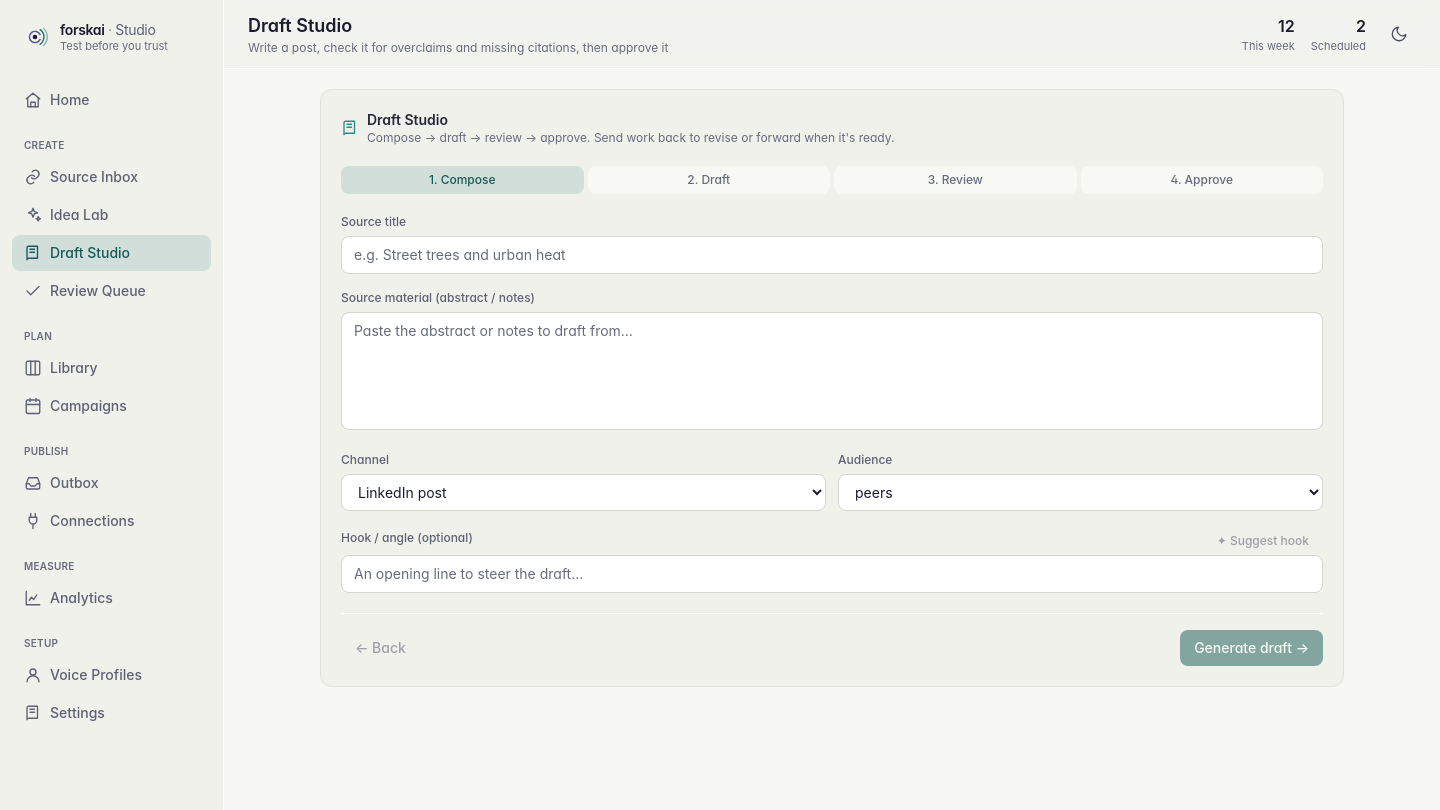
Test: Draft Studio › sends the reviewed draft to the Outbox as approved content
Type "Street trees" into the field labelled "Source title".
click(832, 255); type("Street trees")  # box [341,236,1323,274]
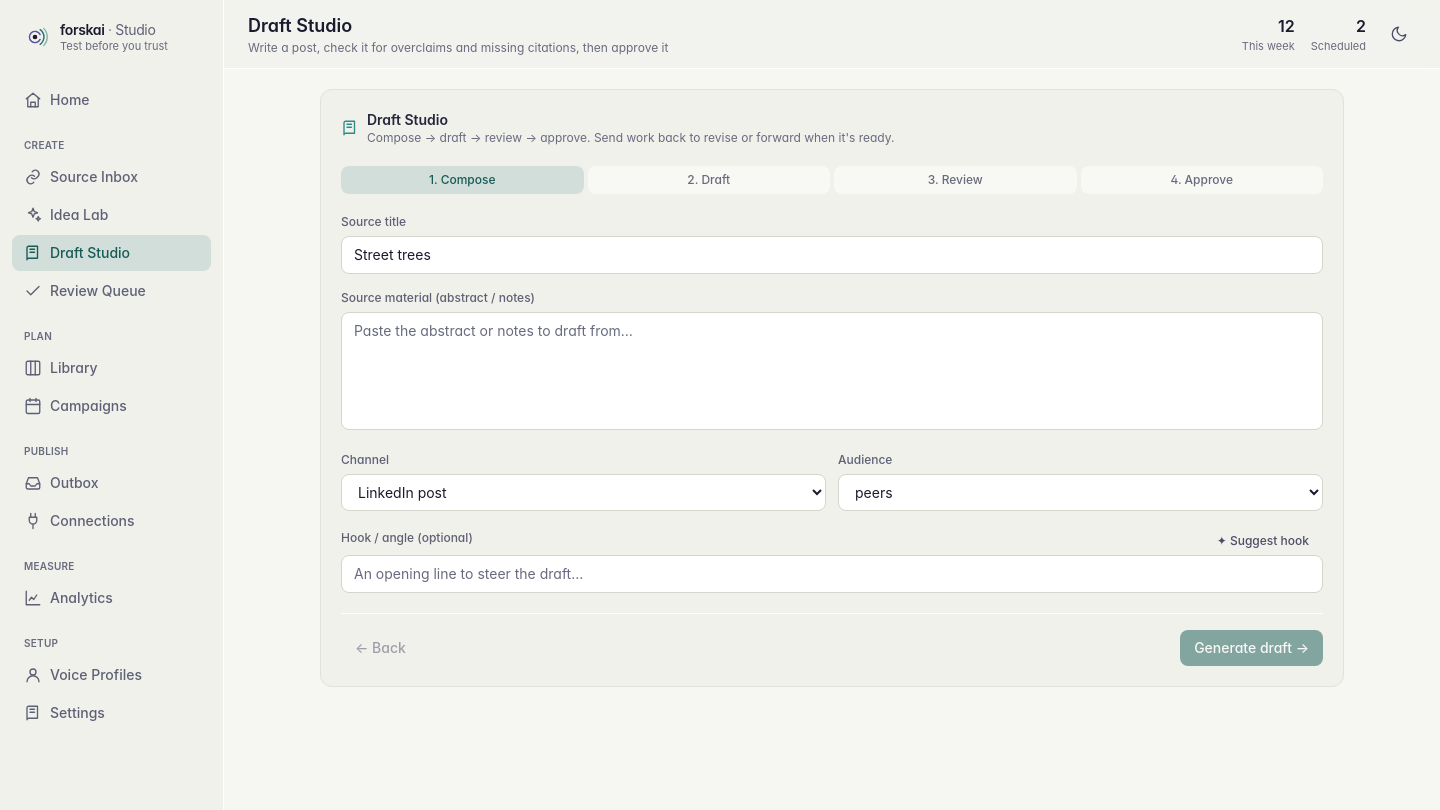
Type "Tree cover was associated with cooler streets." into the text box labelled "Source material (abstract / notes)".
click(832, 371); type("Tree cover was associated with cooler streets.")  # box [341,312,1323,430]
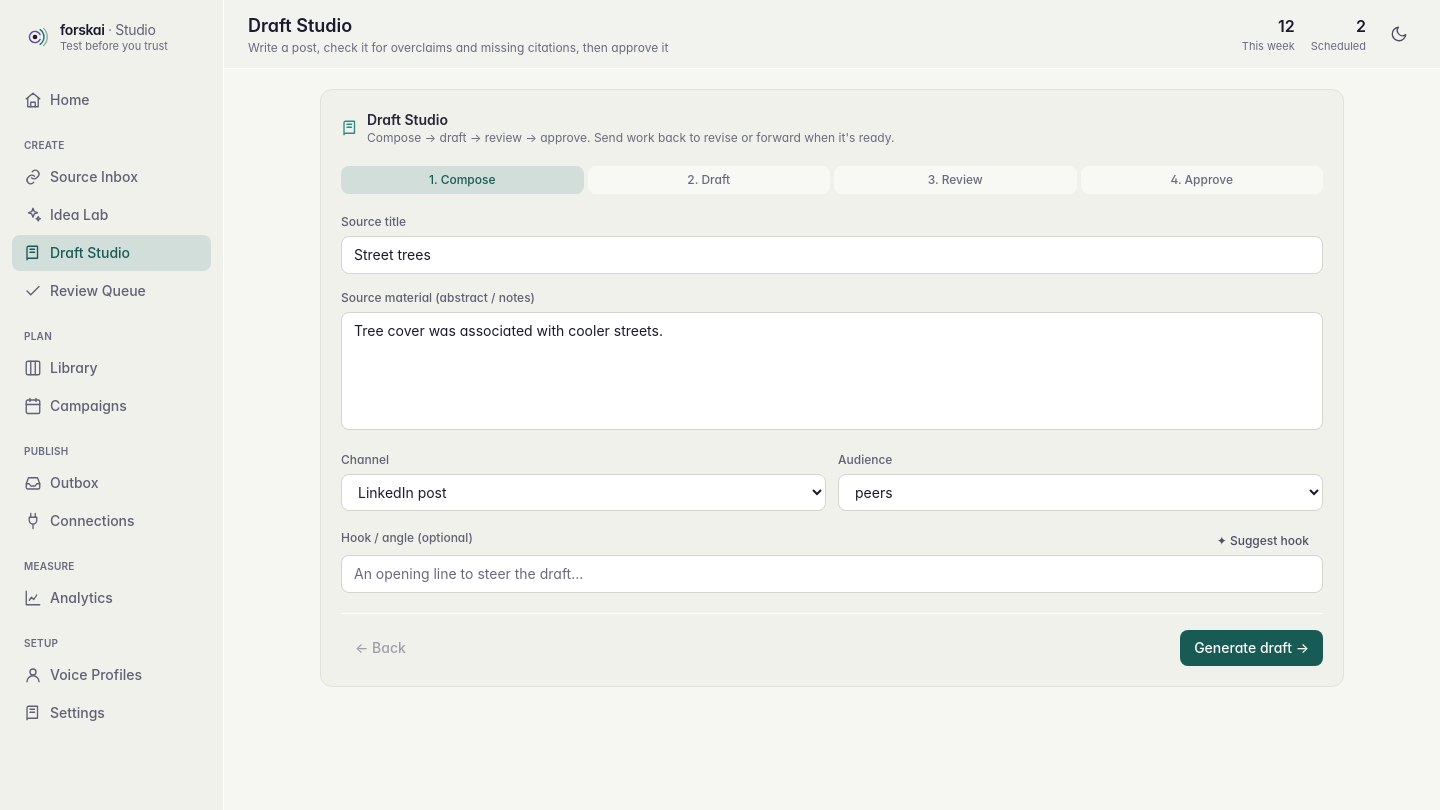
Click the button "Generate draft →".
click(1252, 648)  # box [1180,630,1323,666]
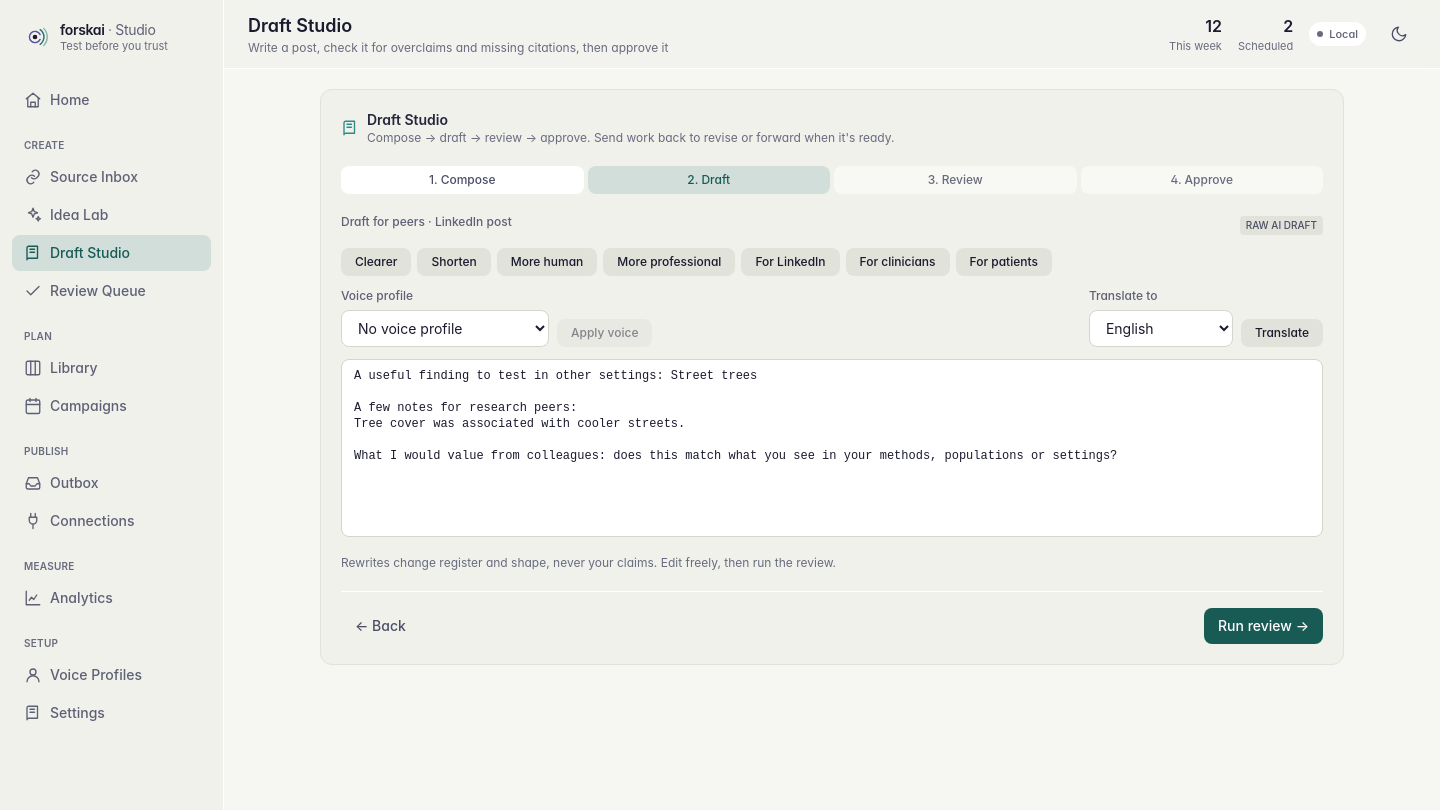
expect the text box with test id "studio-draft" is shown: met, box [341,359,1323,537]
Click the button "Run review →".
click(1264, 626)  # box [1204,608,1323,644]
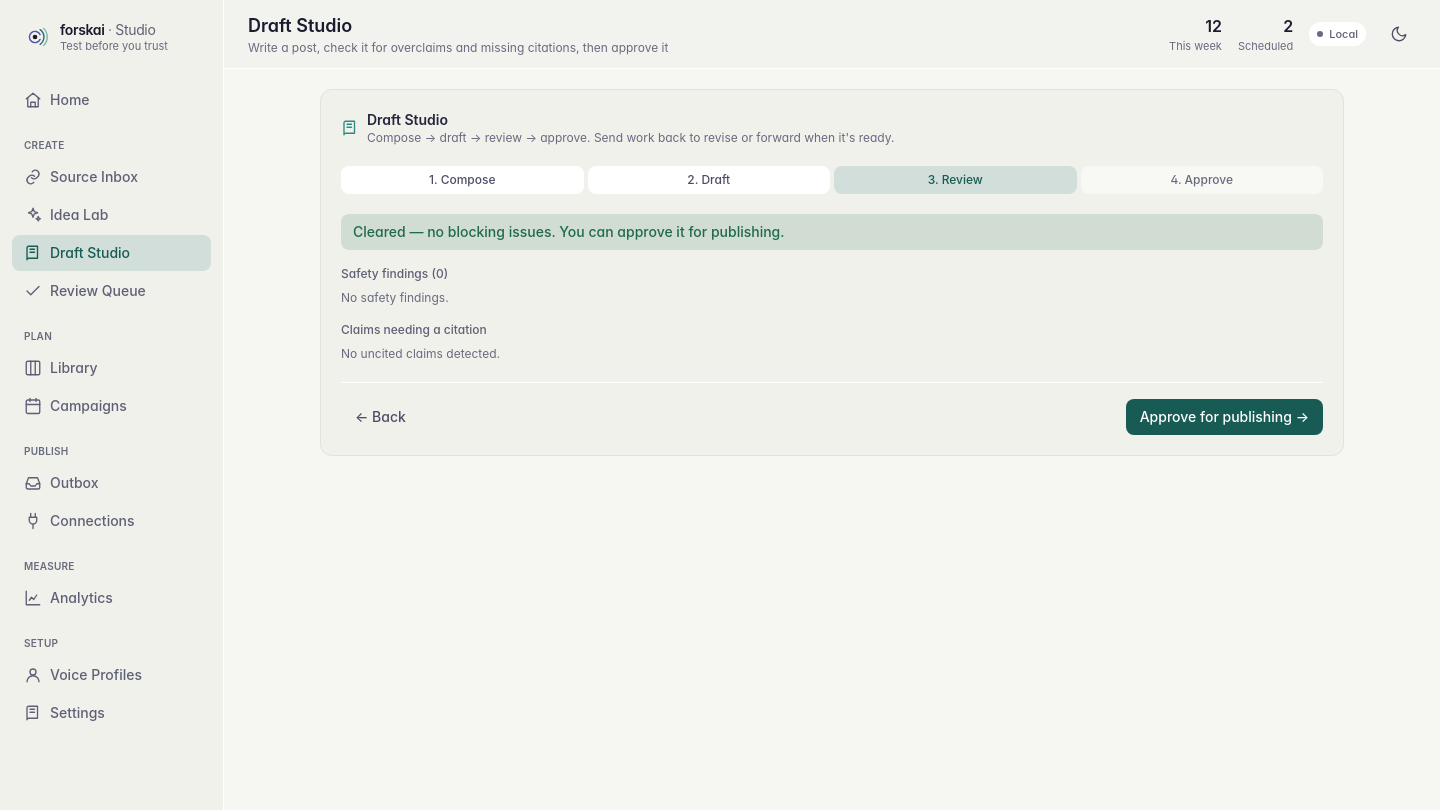
expect the text with test id "review-status" is shown: met, box [341,214,1323,250]
Click the button "Approve for publishing →".
click(1224, 417)  # box [1126,399,1323,435]
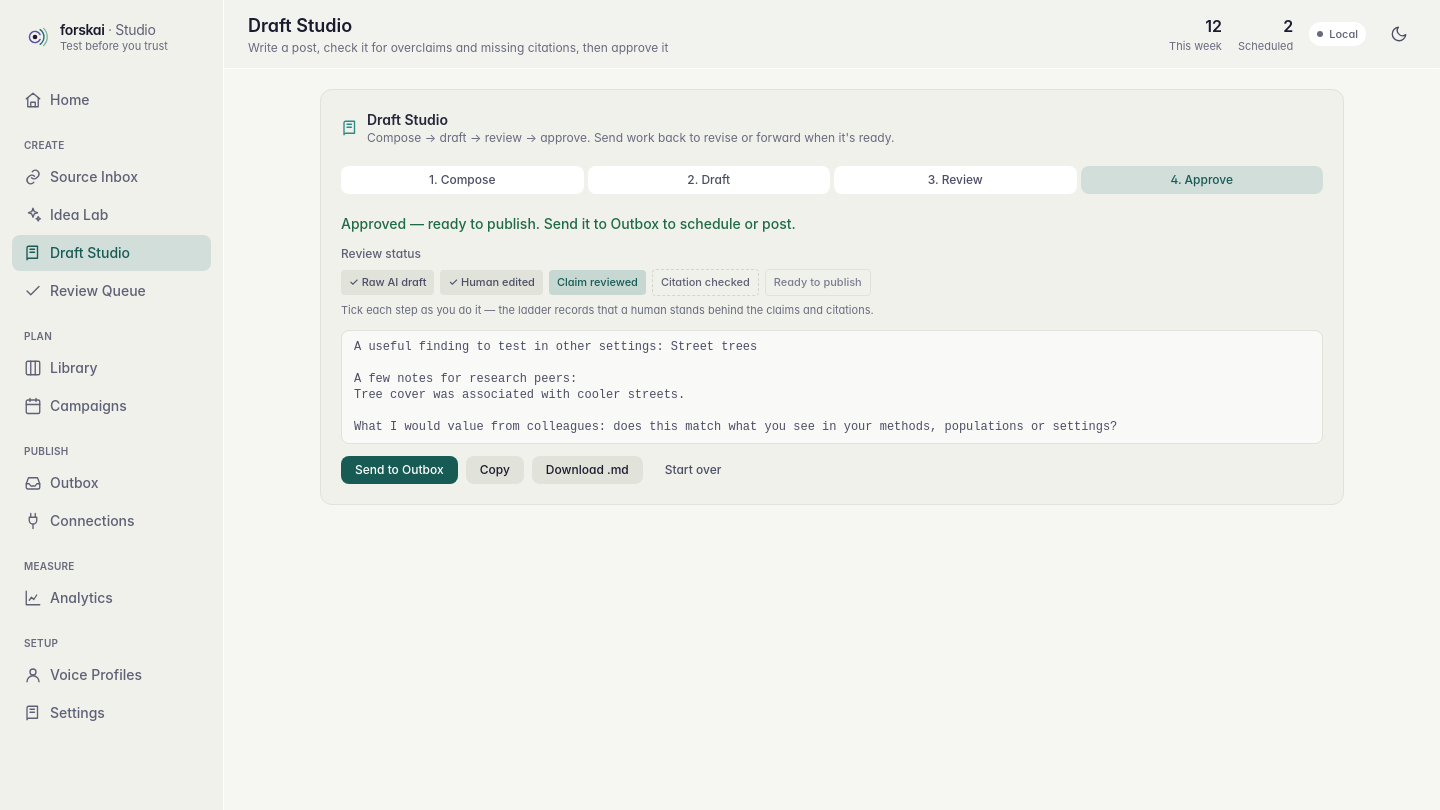
expect the text with test id "ready-banner" is shown: met, box [341,215,796,232]
Click the button "Send to Outbox".
click(399, 470)  # box [341,456,458,484]
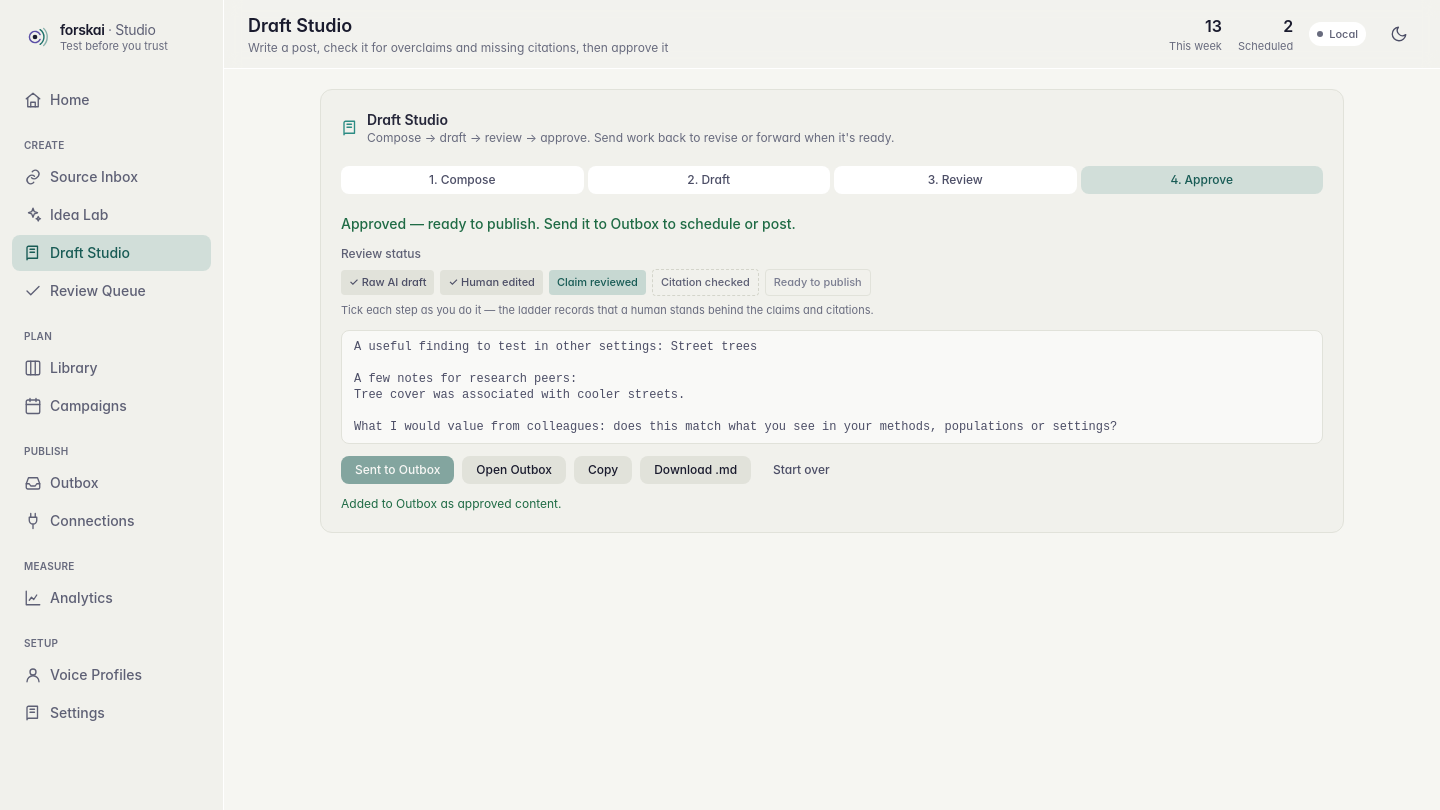
expect the text "Added to Outbox as approved content." is shown: met, box [341,496,562,511]
